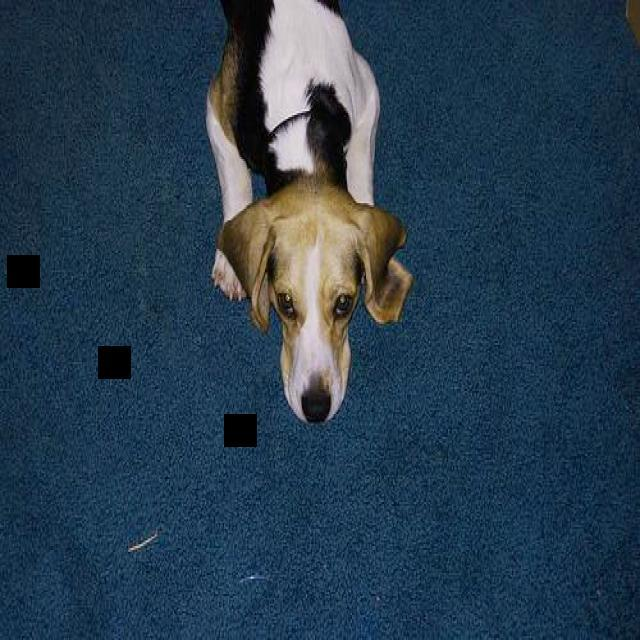adult_dog: (204, 0, 413, 429)
